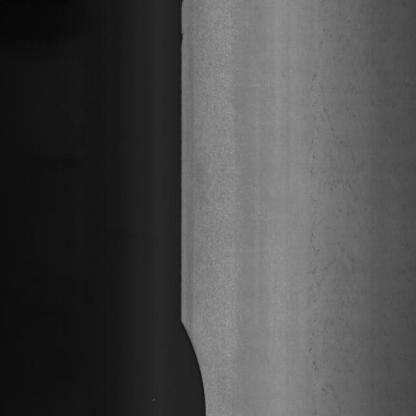crescent_gap: (174, 305, 219, 416)
